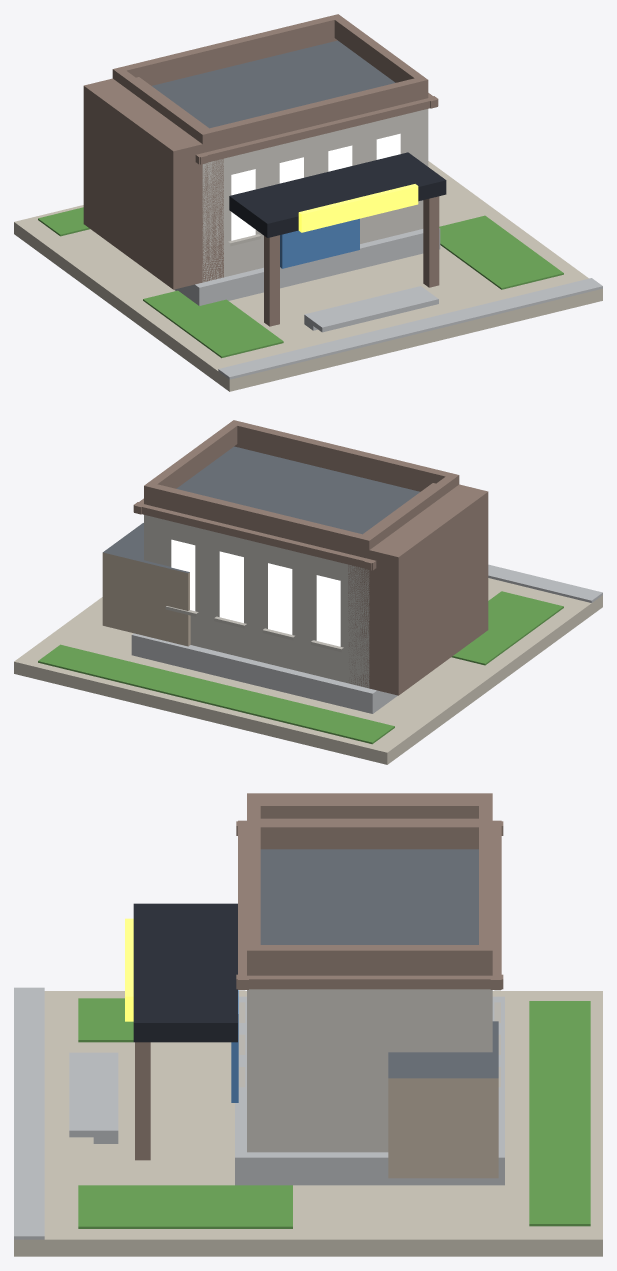
3 renders of one model, top to bottom at view 1: azimuth 30°, elevation 25°; view 2: azimuth 150°, elevation 25°; view 3: azimuth 270°, elevation 25°, orthographic. The views are drawn at different scales.
Parts seen in each view (by area): view 1: b23_v2_lod1; view 2: b23_v2_lod1; view 3: b23_v2_lod1.
Boxes of the visible parts, <box> form: b23_v2_lod1: <box>14,14,602,391</box>; b23_v2_lod1: <box>14,420,602,764</box>; b23_v2_lod1: <box>14,793,602,1256</box>.
Bounding box in the file's own units: 0.96 × 0.443 × 0.96.
